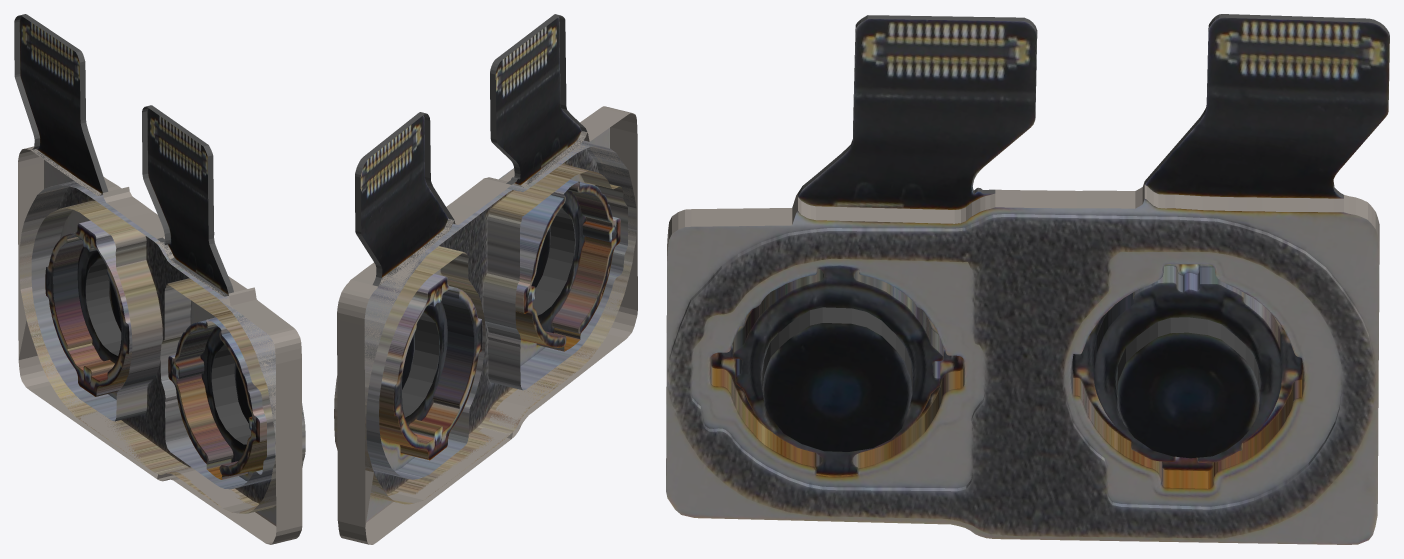
Rendered from camera.glb.
3 renders of one model, left to right at view 1: azimuth 30°, elevation 25°; view 2: azimuth 150°, elevation 25°; view 3: azimuth 270°, elevation 25°, orthographic. The views are drawn at different scales.
Parts seen in each view (by area): view 1: GPHBX51NJGIKZwZs_0ef09dea-ba84-4d99-959f-112e7afdface; view 2: GPHBX51NJGIKZwZs_0ef09dea-ba84-4d99-959f-112e7afdface; view 3: GPHBX51NJGIKZwZs_0ef09dea-ba84-4d99-959f-112e7afdface.
Boxes of the visible parts, <box> form: GPHBX51NJGIKZwZs_0ef09dea-ba84-4d99-959f-112e7afdface: <box>14,14,305,544</box>; GPHBX51NJGIKZwZs_0ef09dea-ba84-4d99-959f-112e7afdface: <box>334,14,637,544</box>; GPHBX51NJGIKZwZs_0ef09dea-ba84-4d99-959f-112e7afdface: <box>666,14,1389,544</box>.
Size of the model in its own units: 0.0498 by 0.3725 by 0.4759.
Materials: 4 (1 with a texture image).
